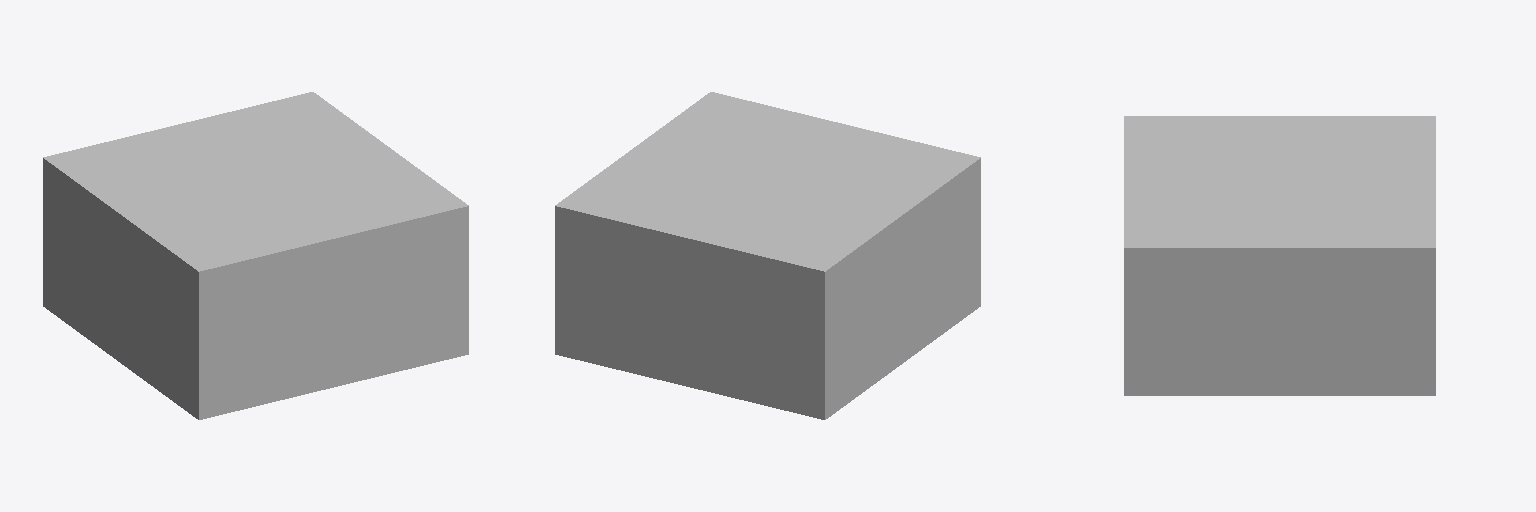
Rendered from soil.obj.
3 renders of one model, left to right at view 1: azimuth 30°, elevation 25°; view 2: azimuth 150°, elevation 25°; view 3: azimuth 270°, elevation 25°, orthographic.
Visible parts, largest first — view 1: object 1; view 2: object 1; view 3: object 1.
Boxes of the visible parts, <box> form: object 1: <box>43,92,468,419</box>; object 1: <box>555,92,980,419</box>; object 1: <box>1124,116,1435,395</box>.
Size of the model in its own units: 4 by 2.1 by 4.